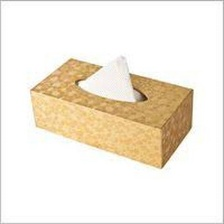book: (24, 52, 199, 173)
tissue: (71, 49, 144, 106)
